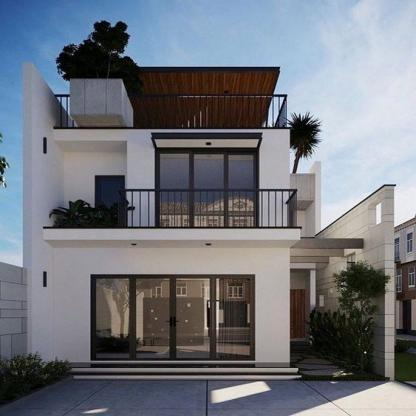Balcony: (53, 94, 287, 129), (118, 189, 297, 228)
Building Outline: (21, 62, 398, 381)
Door: (133, 275, 212, 360), (283, 290, 305, 339)
Facade: (22, 62, 398, 382)
Floor Slab: (53, 129, 289, 139), (43, 229, 300, 238)
Window: (156, 150, 256, 226), (54, 142, 126, 229), (217, 278, 251, 358), (96, 278, 130, 358), (100, 180, 120, 227)
